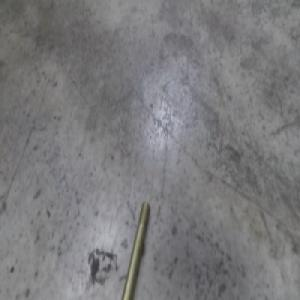Bolt: (121, 201, 150, 299)
